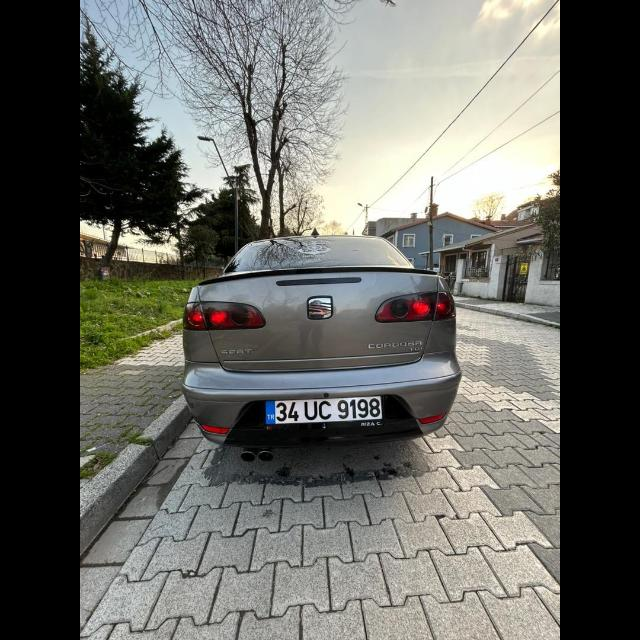Plaka: (266, 396, 382, 426)
